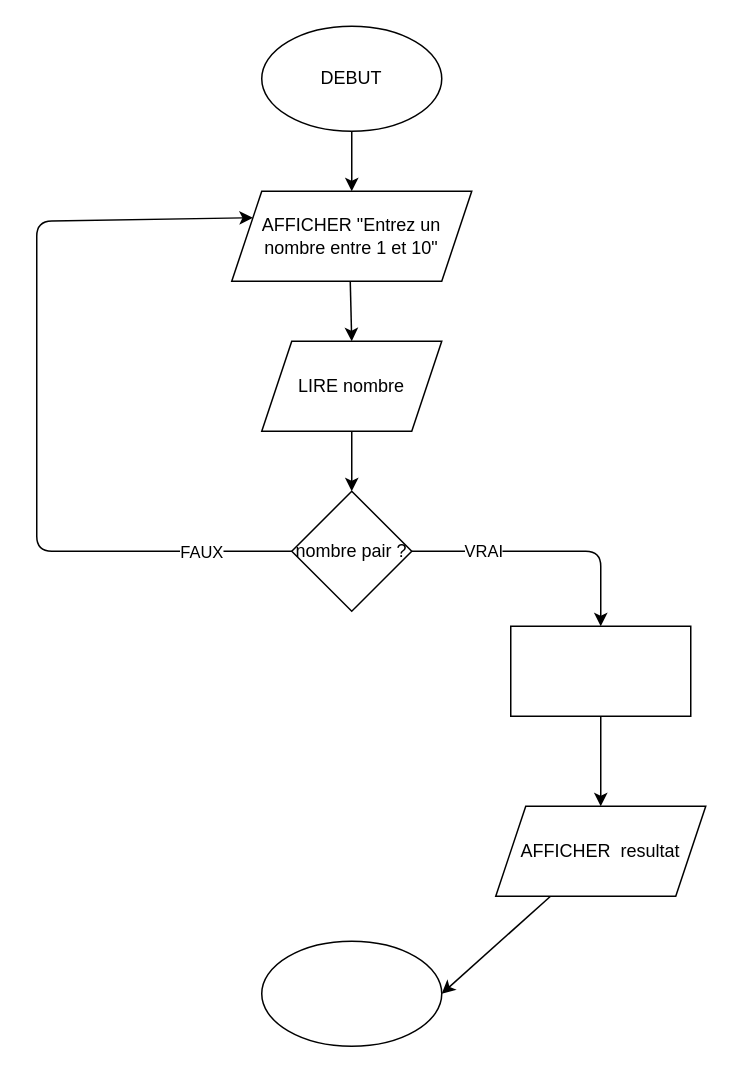
This 732x1073 diagram has some shape labels left out. The centre of each missing label's shape, as x and y in pixels:
"FIN" belongs at point 351,993.
"resultat = nombre * 3" belongs at point 600,670.
